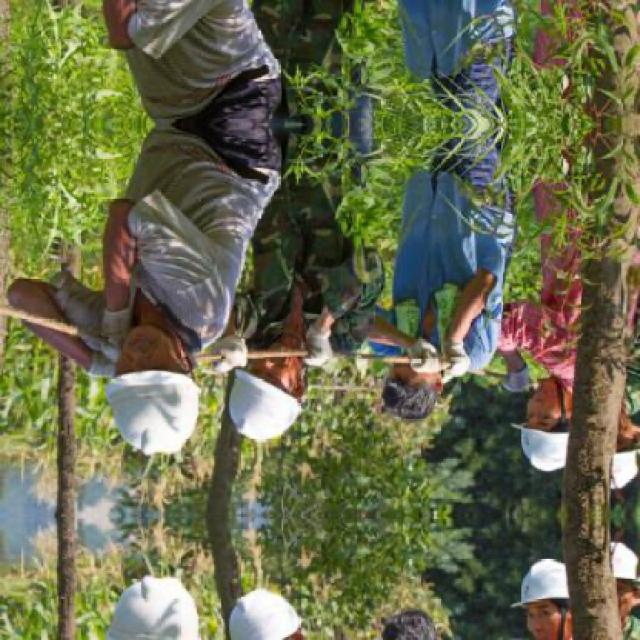con casco: (80, 288, 208, 472), (229, 276, 333, 457), (370, 328, 456, 432), (516, 370, 596, 474)
